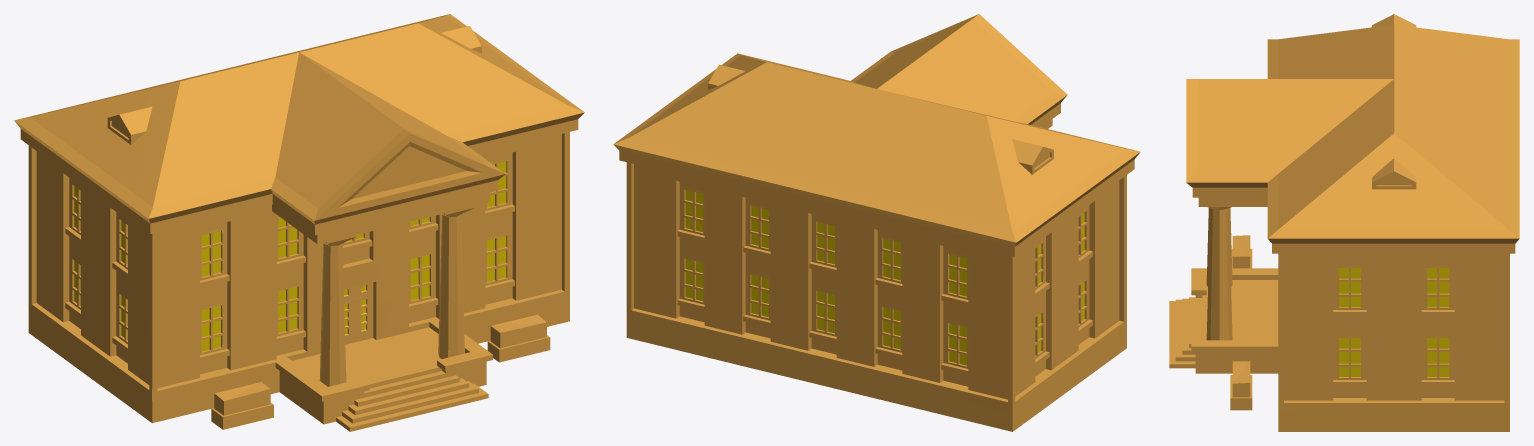
The model's file is Building_29.fbx.
3 renders of one model, left to right at view 1: azimuth 30°, elevation 25°; view 2: azimuth 150°, elevation 25°; view 3: azimuth 270°, elevation 25°, orthographic. The views are drawn at different scales.
Parts seen in each view (by area): view 1: building-museum, building-museum.001; view 2: building-museum, building-museum.001; view 3: building-museum, building-museum.001.
Part boxes in pixels (box(x1,y1,x2,y2)): building-museum: box(14, 14, 584, 317); building-museum.001: box(28, 214, 569, 431); building-museum: box(613, 14, 1140, 334); building-museum.001: box(626, 239, 1126, 431); building-museum: box(1186, 14, 1519, 333); building-museum.001: box(1169, 208, 1509, 431).
Size of the model in its own units: 3.77 by 2.27 by 2.8.
